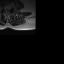CCS_normal: (6, 8, 7, 13)
LFS_normal: (9, 7, 11, 11)
LLS_normal: (7, 7, 9, 12)
RFS_severe_stenosis: (3, 7, 4, 11)
RLS_normal: (4, 7, 6, 12)
